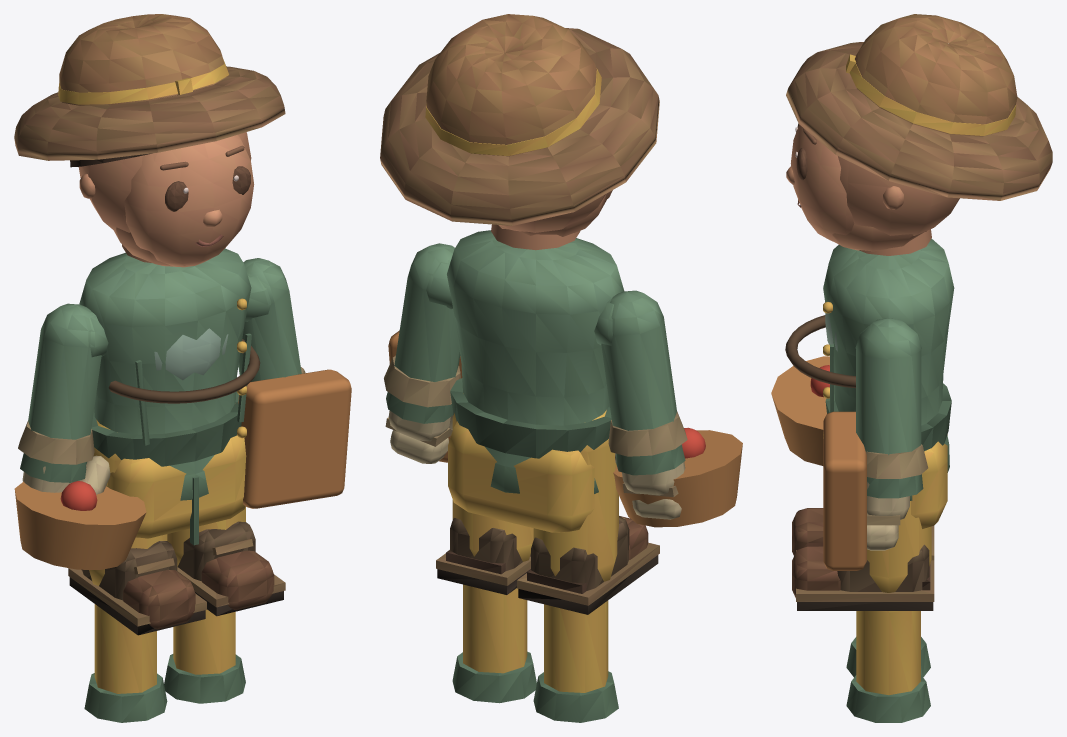
Rendered from kang-taeho.glb.
The picture shows the model from 3 angles, left to right: view 1: azimuth 30°, elevation 25°; view 2: azimuth 150°, elevation 25°; view 3: azimuth 270°, elevation 25°; orthographic projection. The views are drawn at different scales.
Visible parts, largest first — view 1: coat, legs, hat, figureDetail, fieldSatchel, armLeftMesh, harvestBasket, trousers, armRightMesh, handLeftMesh, fieldSatchelStrap, tomatoSample; view 2: hat, legs, coat, armLeftMesh, trousers, armRightMesh, harvestBasket, handRightMesh, handLeftMesh, figureDetail, neck; view 3: hat, legs, coat, figureDetail, armRightMesh, fieldSatchel, harvestBasket, handRightMesh, trousers, fieldSatchelStrap, neck.
Boxes of the visible parts, bbox=[...] form: coat: bbox=[79, 248, 251, 500]; legs: bbox=[68, 419, 285, 722]; hat: bbox=[14, 14, 285, 160]; figureDetail: bbox=[70, 87, 254, 267]; fieldSatchel: bbox=[238, 369, 351, 508]; armLeftMesh: bbox=[20, 303, 108, 482]; harvestBasket: bbox=[14, 481, 146, 569]; trousers: bbox=[108, 435, 246, 545]; armRightMesh: bbox=[238, 258, 301, 381]; handLeftMesh: bbox=[18, 421, 110, 494]; fieldSatchelStrap: bbox=[108, 339, 260, 403]; tomatoSample: bbox=[60, 481, 97, 510]; hat: bbox=[380, 14, 659, 225]; legs: bbox=[436, 393, 659, 722]; coat: bbox=[447, 230, 624, 493]; armLeftMesh: bbox=[594, 290, 685, 475]; trousers: bbox=[448, 421, 594, 532]; armRightMesh: bbox=[386, 243, 460, 423]; harvestBasket: bbox=[613, 430, 742, 527]; handRightMesh: bbox=[384, 355, 460, 463]; handLeftMesh: bbox=[608, 411, 687, 519]; figureDetail: bbox=[498, 190, 612, 236]; neck: bbox=[491, 224, 580, 250]; hat: bbox=[786, 14, 1052, 200]; legs: bbox=[792, 501, 934, 722]; coat: bbox=[823, 238, 954, 500]; figureDetail: bbox=[786, 123, 959, 251]; armRightMesh: bbox=[855, 318, 923, 498]; fieldSatchel: bbox=[823, 411, 866, 570]; harvestBasket: bbox=[771, 356, 829, 465]; handRightMesh: bbox=[866, 444, 928, 550]; trousers: bbox=[911, 434, 947, 528]; fieldSatchelStrap: bbox=[785, 315, 855, 388]; neck: bbox=[859, 229, 931, 255].
Bounding box in the file's own units: 1.11 × 2.21 × 0.8386.
